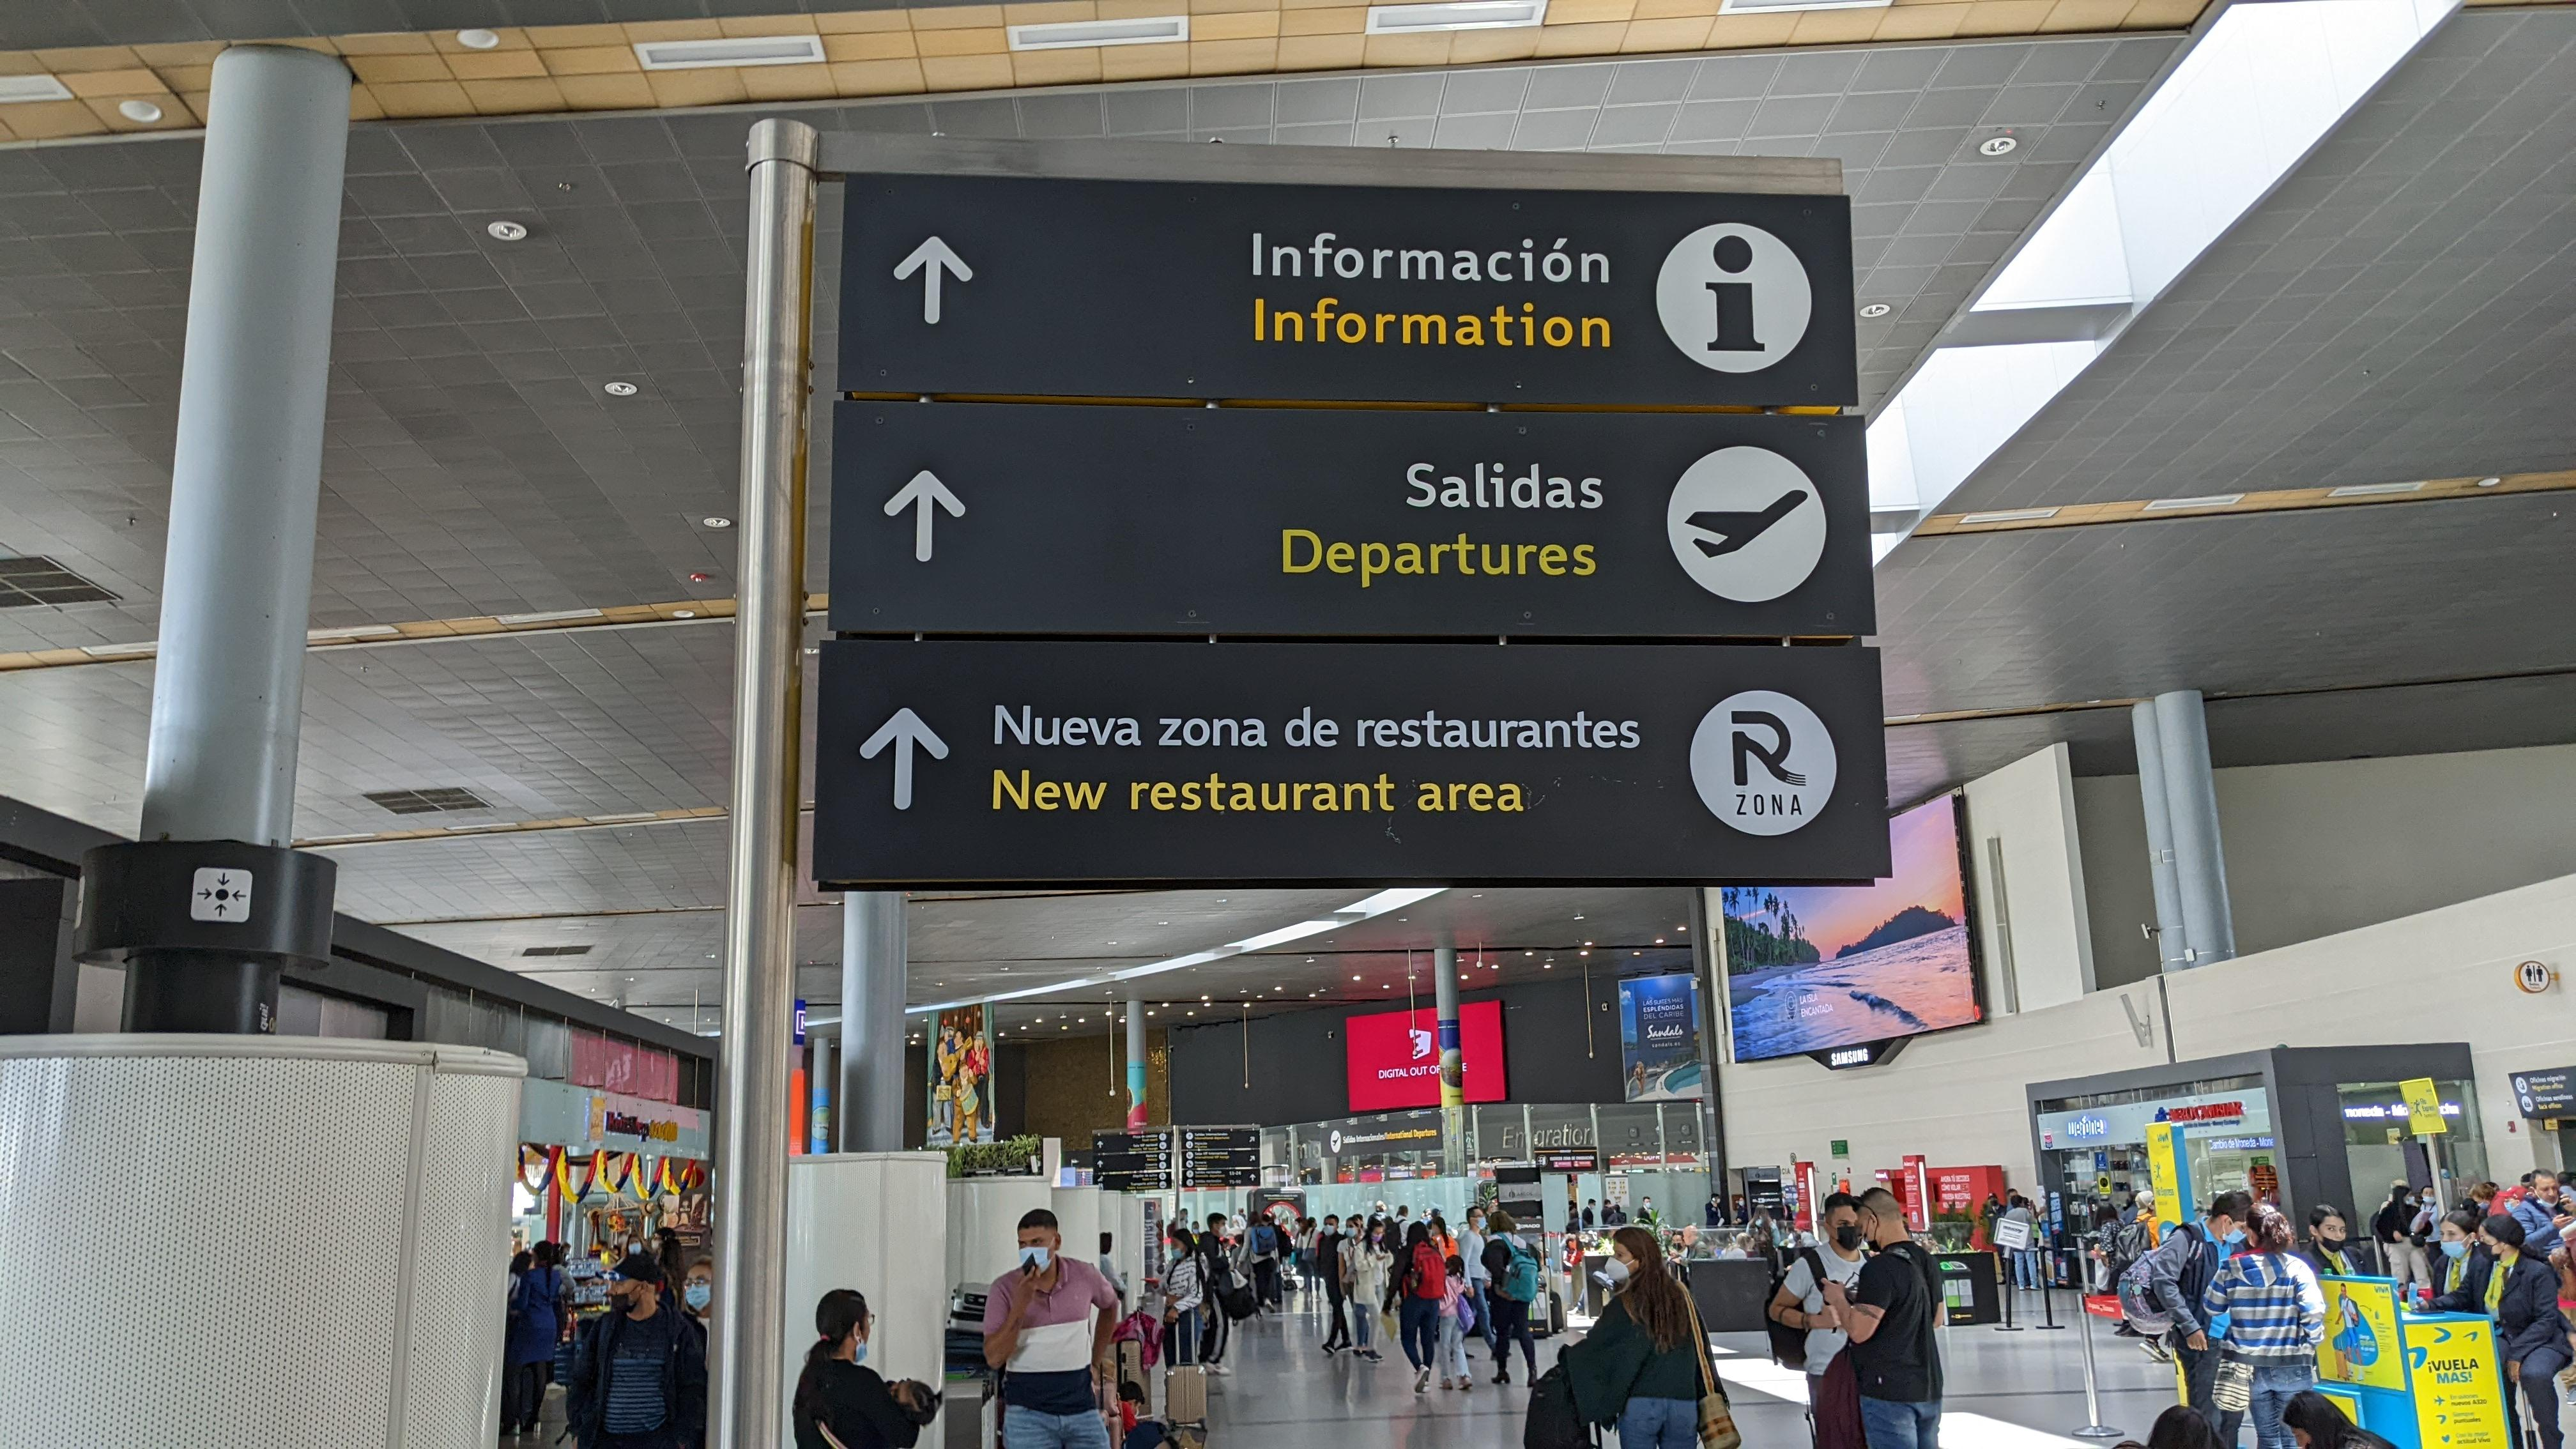airplane symbol: (1688, 479, 1810, 566)
up arrow: (856, 699, 957, 816), (885, 228, 982, 336), (881, 464, 970, 571)
